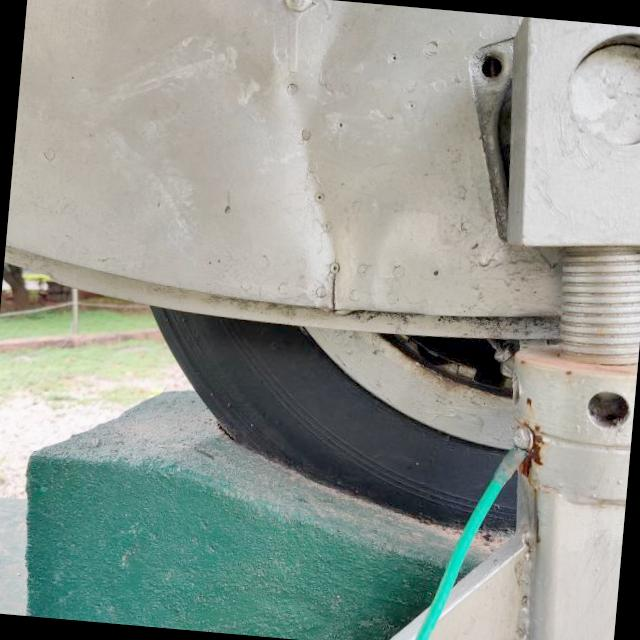crack: (313, 264, 352, 316)
